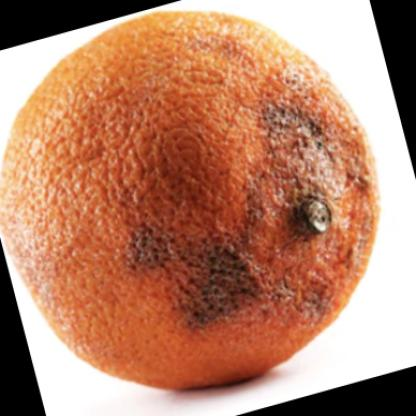rotten: (3, 14, 380, 389)
